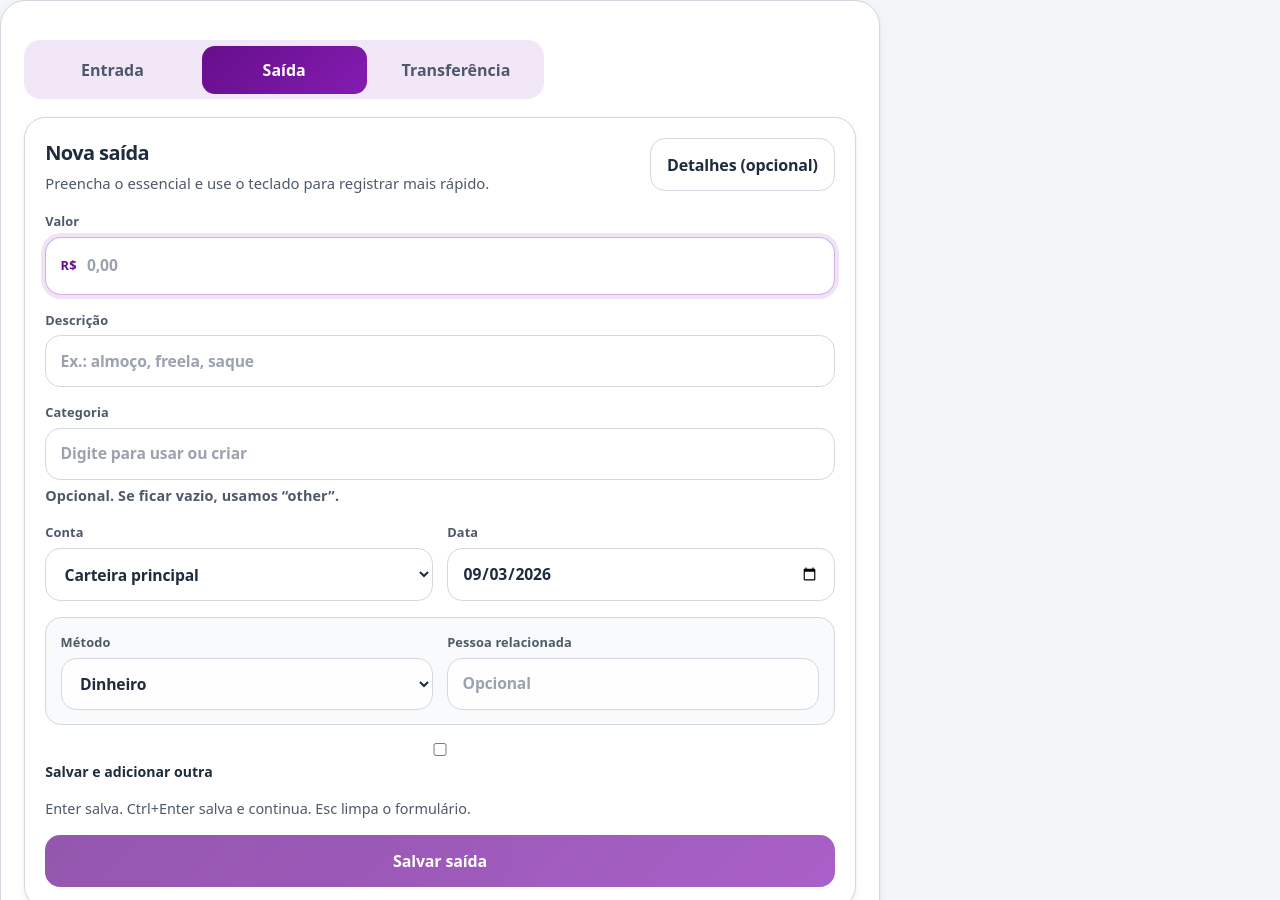
Scenario: Movements panel › shows one active mode at a time and defaults to saída
The width and height of the screenshot is (1280, 900).
Check: the field labelled "Valor R$" is shown, box x1=87 y1=241 x2=831 y2=290
Check: the button "salvar transferência" is not shown
Click the button "Transferência" at (456, 70), box x1=373 y1=46 x2=539 y2=94
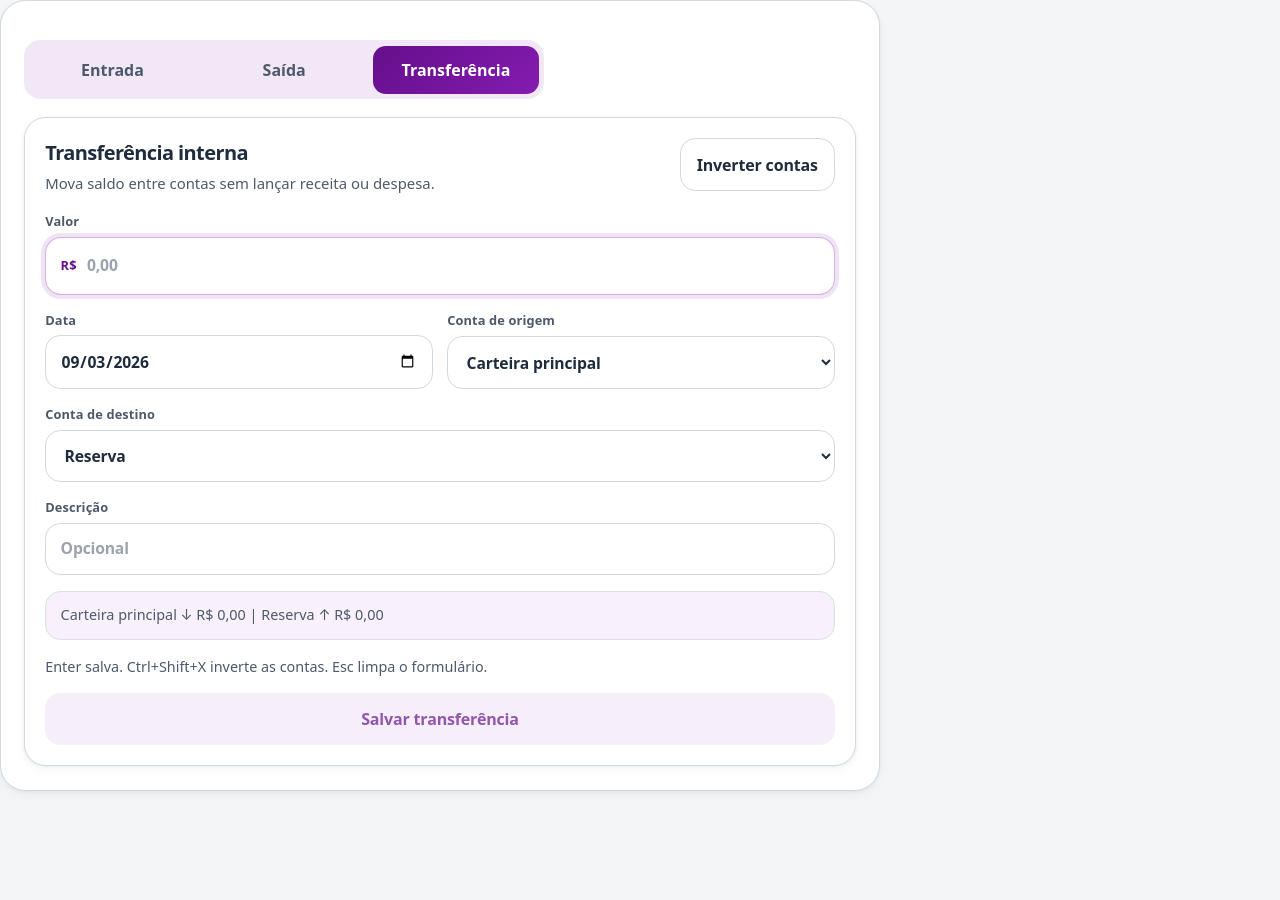
Check: the dropdown labelled "Conta de origem" is shown, box x1=447 y1=336 x2=835 y2=389
Check: the button "Salvar saída" is gone
